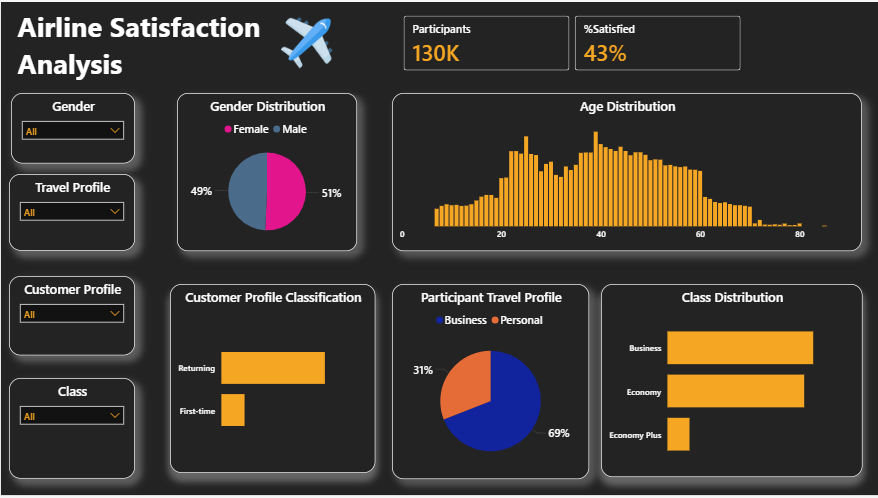

This screenshot's page, from the dashboard's own definition file:
{"tool":"powerbi","page":{"name":"Page 1","canvas":[1280,720],"ordinal":0},"visuals":[{"type":"pieChart","title":"Gender Distribution","fields":{"Category":["airline_passenger_satisfaction.Gender"],"Y":["airline_passenger_satisfaction.Participants"]},"box":[257.1,132.2,263,230.7],"z":0},{"type":"clusteredColumnChart","title":"Age Distribution","fields":{"Category":["airline_passenger_satisfaction.Age (bins)"],"Y":["airline_passenger_satisfaction.Participants"]},"box":[571.6,132.2,686.2,230.7],"z":1000},{"type":"clusteredBarChart","title":"Class Distribution","fields":{"Category":["airline_passenger_satisfaction.Class"],"Y":["airline_passenger_satisfaction.Participants"]},"box":[875.8,411.4,382,282.1],"z":2000},{"type":"slicer","title":"Class","fields":{"Values":["airline_passenger_satisfaction.Class"]},"box":[11.8,549.6,183.7,146.9],"z":3000},{"type":"clusteredBarChart","title":"Customer Profile Classification","fields":{"Category":["airline_passenger_satisfaction.Customer Type"],"Y":["airline_passenger_satisfaction.Participants"]},"box":[246.9,411.4,299.8,276.2],"z":4000},{"type":"pieChart","title":"Participant Travel Profile","fields":{"Y":["airline_passenger_satisfaction.Participants"],"Category":["airline_passenger_satisfaction.Type of Travel"]},"box":[571.6,411.4,288,285.1],"z":5000},{"type":"textbox","title":"Airline  Satisfaction Analysis","box":[19.4,9,398.8,109],"z":6000},{"type":"cardVisual","fields":{"Data":["airline_passenger_satisfaction.Participants","Serivce ratings.%Satisfied"]},"box":[571.6,2.9,526,114.6],"z":7000},{"type":"slicer","title":"Gender","fields":{"Values":["airline_passenger_satisfaction.Gender"]},"box":[14.9,132.9,180.7,103.1],"z":8000},{"type":"slicer","title":"Travel Profile","fields":{"Values":["airline_passenger_satisfaction.Type of Travel"]},"box":[11.8,251.3,183.7,111.7],"z":9000},{"type":"slicer","title":"Customer Profile","fields":{"Values":["airline_passenger_satisfaction.Customer Type"]},"box":[11.8,399.7,183.7,116.1],"z":10000},{"type":"image","box":[389.4,22,113.1,74.9],"z":10001}]}

Visuals, with their boxes in screenshot pixels (x1, y1, x2, y2), scaled from the page's 1280x720 canvas onto the 878x498 screenshot:
"Gender Distribution" pieChart: bbox=[176, 91, 357, 251]
"Age Distribution" clusteredColumnChart: bbox=[392, 91, 863, 251]
"Class Distribution" clusteredBarChart: bbox=[601, 285, 863, 480]
"Class" slicer: bbox=[8, 380, 134, 482]
"Customer Profile Classification" clusteredBarChart: bbox=[169, 285, 375, 476]
"Participant Travel Profile" pieChart: bbox=[392, 285, 590, 482]
"Airline  Satisfaction Analysis" textbox: bbox=[13, 6, 287, 82]
cardVisual - airline_passenger_satisfaction.Participants x Serivce ratings.%Satisfied: bbox=[392, 2, 753, 81]
"Gender" slicer: bbox=[10, 92, 134, 163]
"Travel Profile" slicer: bbox=[8, 174, 134, 251]
"Customer Profile" slicer: bbox=[8, 276, 134, 357]
image: bbox=[267, 15, 345, 67]
